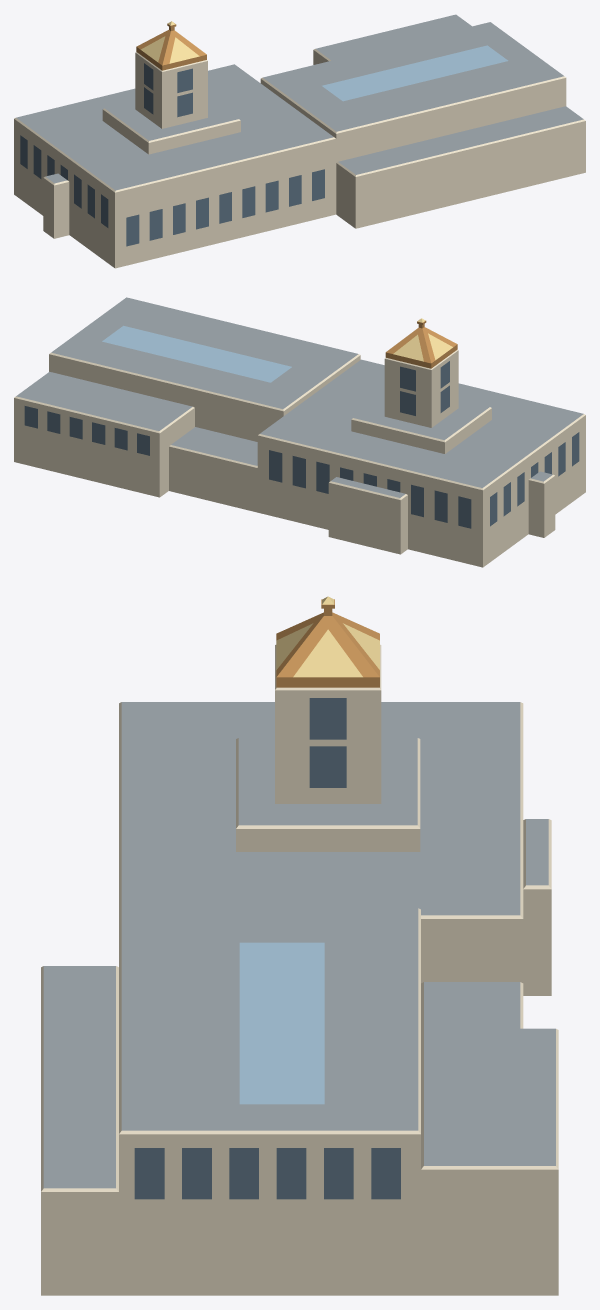
The model's file is la-central-library.glb.
3 renders of one model, top to bottom at view 1: azimuth 30°, elevation 25°; view 2: azimuth 150°, elevation 25°; view 3: azimuth 270°, elevation 25°, orthographic. The views are drawn at different scales.
Parts seen in each view (by area): view 1: Los Angeles Central Library; view 2: Los Angeles Central Library; view 3: Los Angeles Central Library.
Boxes of the visible parts, left/top/right/bottom form: Los Angeles Central Library: left=14, top=14, right=585, bottom=268; Los Angeles Central Library: left=14, top=297, right=585, bottom=567; Los Angeles Central Library: left=41, top=596, right=558, bottom=1295.
Bounding box in the file's own units: 152 × 56.8 × 73.05.
